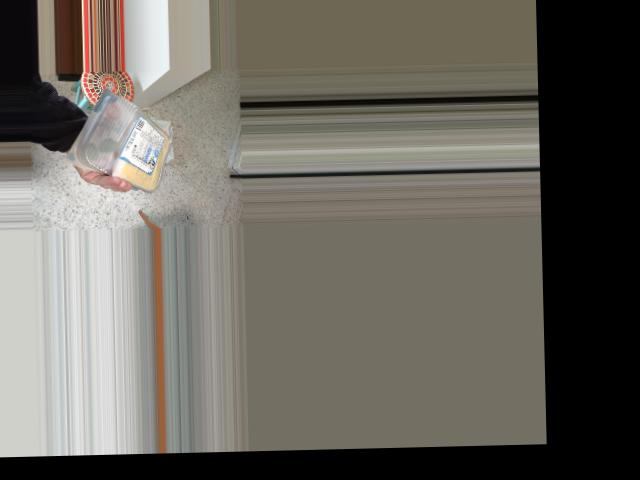cheese: (72, 85, 181, 181)
